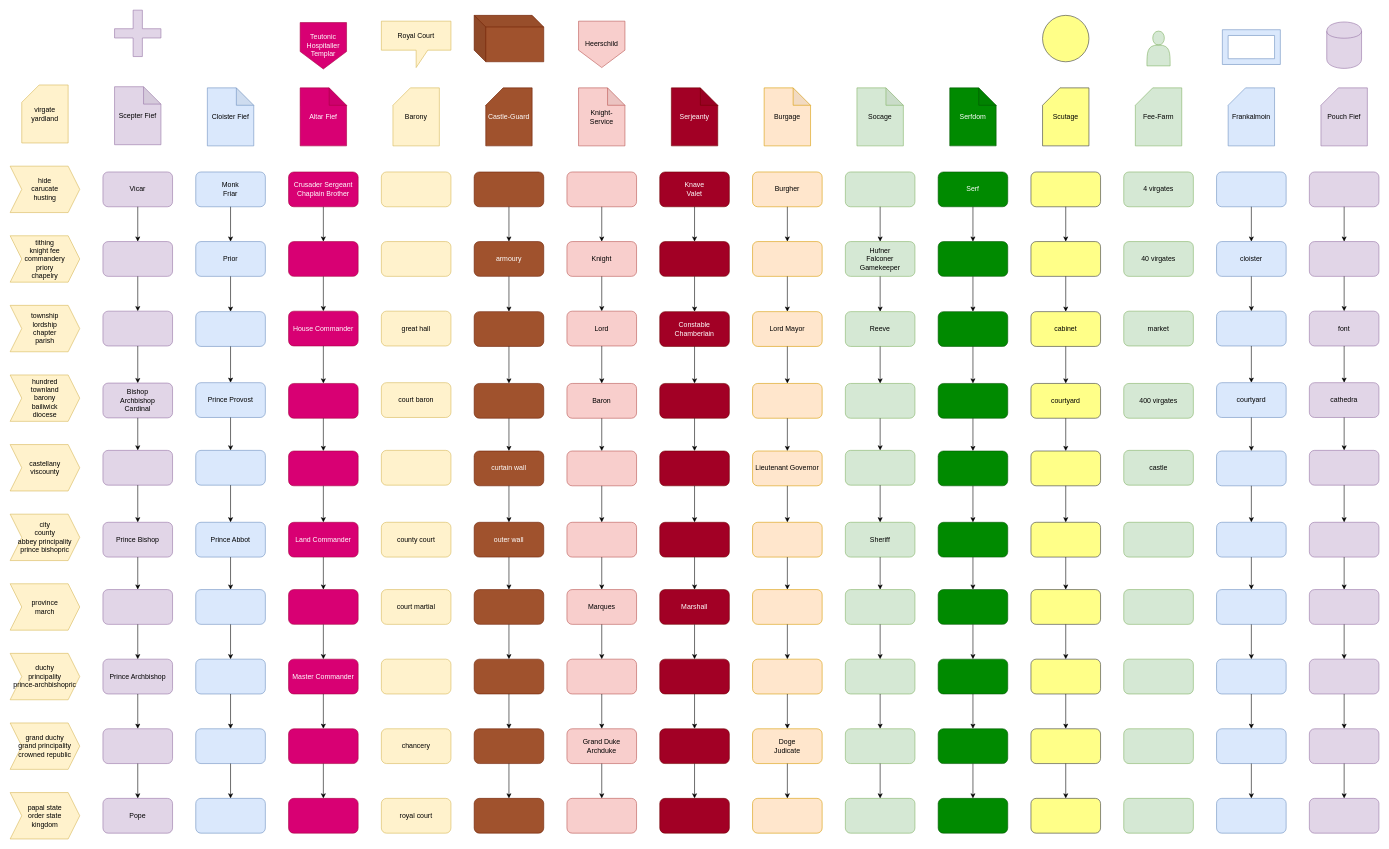
This 1389x849 diagram has some shape labels left out. Here are the shapes that lost their labels. From the top down, the centre of each, then its label:
the point at 137,33: catholic
the point at 509,38: Sicilian Manor
the point at 1065,38: Florin
the point at 601,189: Squire
the point at 880,189: Cottar
the point at 137,258: Chaplain
the point at 323,258: Crusader Knight Treasurer Draper
the point at 694,258: Sergeant-at-Arms Butler Panter
the point at 787,258: Patrician Innkeeper
the point at 1065,258: guest hall workshop parlour
the point at 1344,258: altar
the point at 137,328: Priest Chancellor
the point at 230,328: Provost Abbot
the point at 1251,328: vestry
the point at 509,400: keep
the point at 787,400: Lord Warden
the point at 880,400: Bailiff
the point at 323,468: Knight Commander
the point at 601,468: Castellan
the point at 601,539: Count
the point at 787,539: Governor General
the point at 601,676: Duke Prince
the point at 323,746: Grandmaster
the point at 601,815: King
